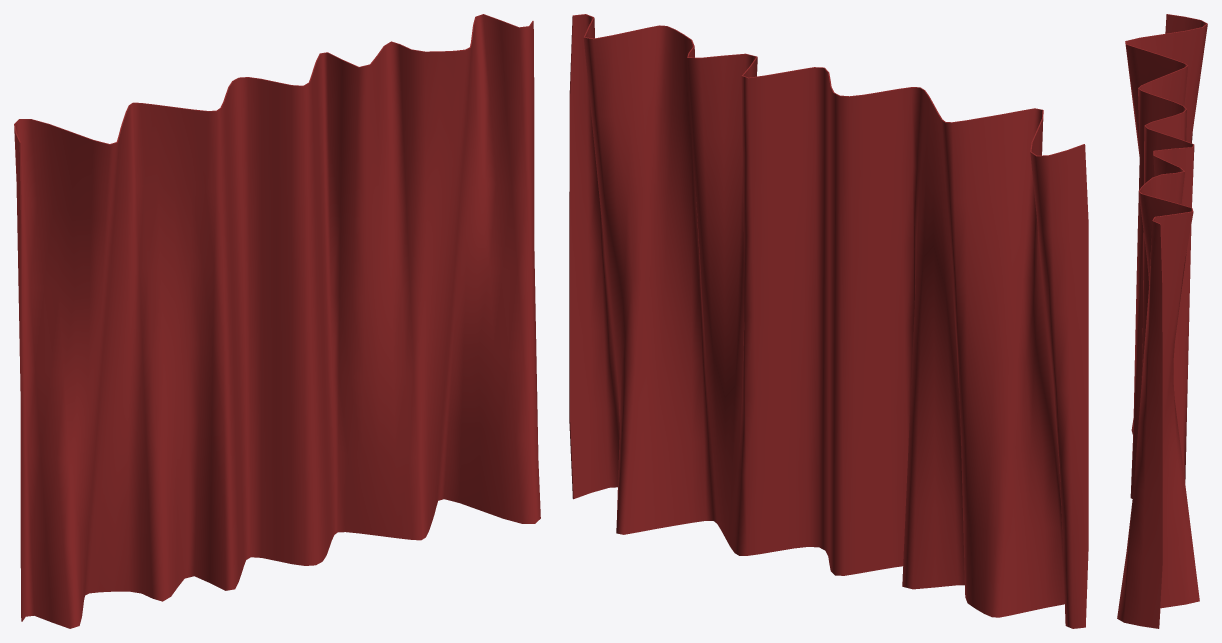
The model's file is curtain.fbx.
3 views of the same model, side by side, from view 1: azimuth 30°, elevation 25°; view 2: azimuth 150°, elevation 25°; view 3: azimuth 270°, elevation 25° (orthographic). The views are drawn at different scales.
Parts seen in each view (by area): view 1: curtain; view 2: curtain; view 3: curtain.
Part boxes in pixels (x1,y1,x2,y2): curtain: (14,14,540,628); curtain: (569,14,1088,628); curtain: (1117,14,1207,628).
Bounding box in the file's own units: 10.02 × 8.93 × 1.82.
Materials: 1 (1 with a texture image).
